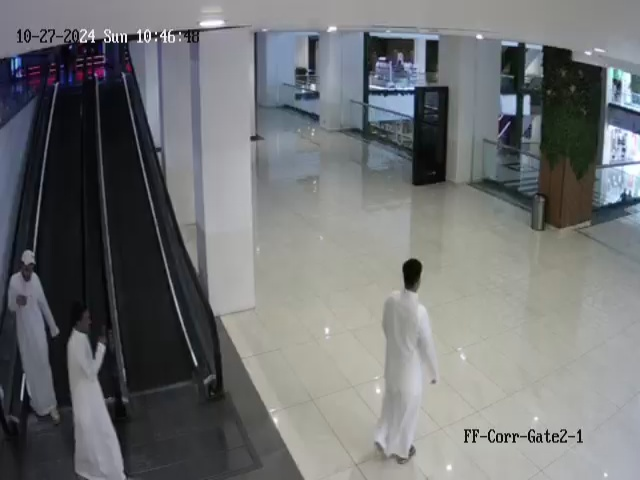male: (373, 258, 441, 465), (66, 301, 128, 480), (6, 250, 62, 426)
